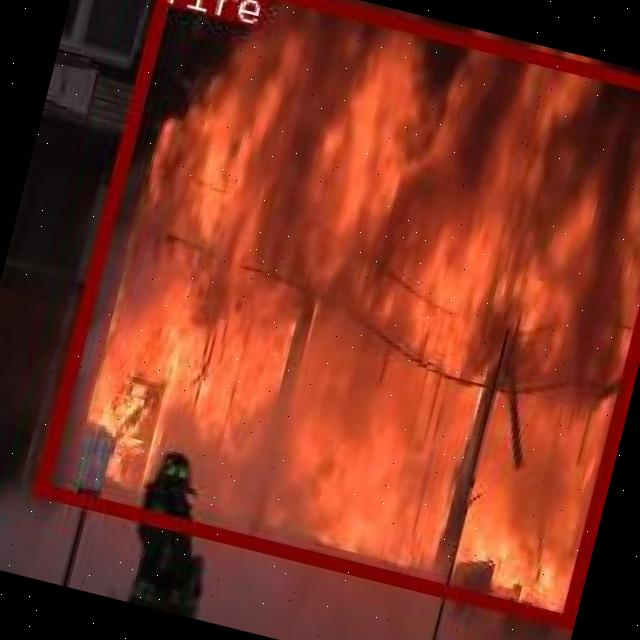fire: (31, 0, 640, 623)
